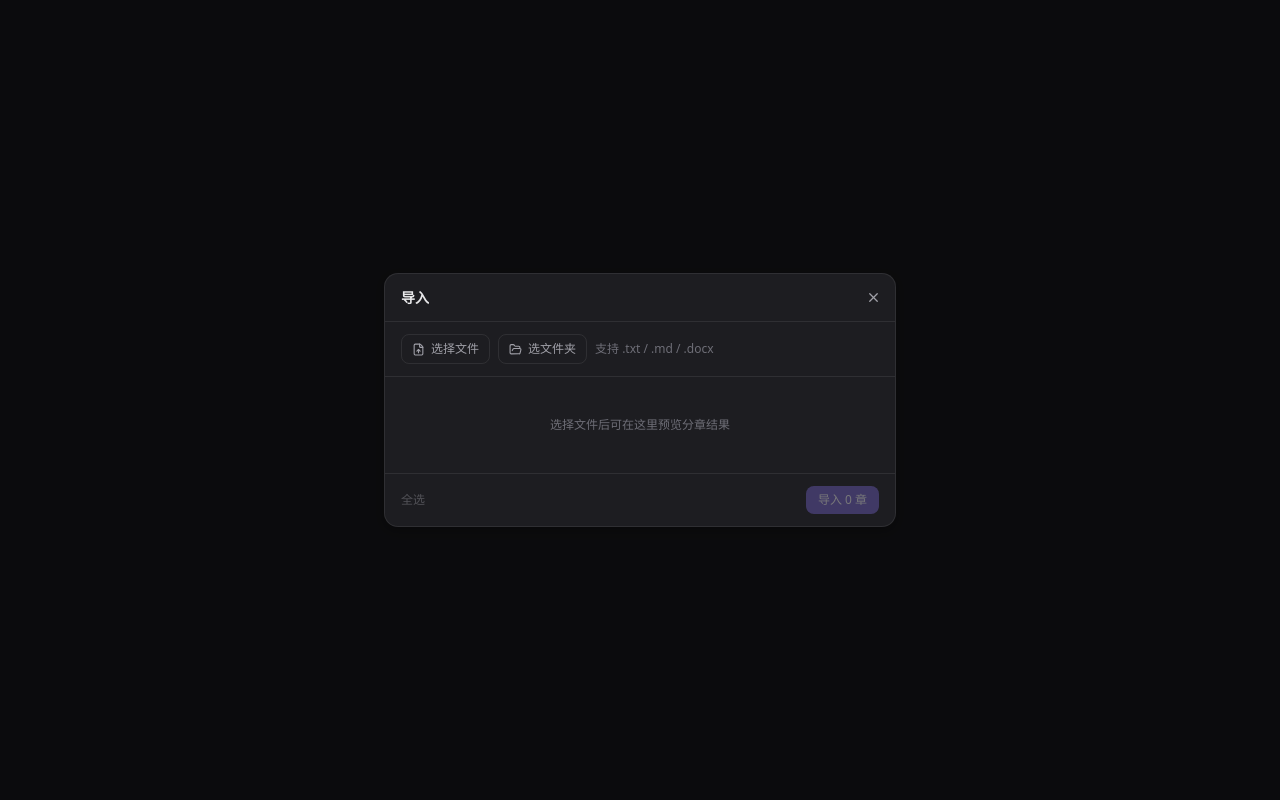
Test case: ImportWizard › 取消勾选后只导入被选中的章，并回调刷新
Click the button "选择文件" at (446, 349), box [401, 334, 490, 364]
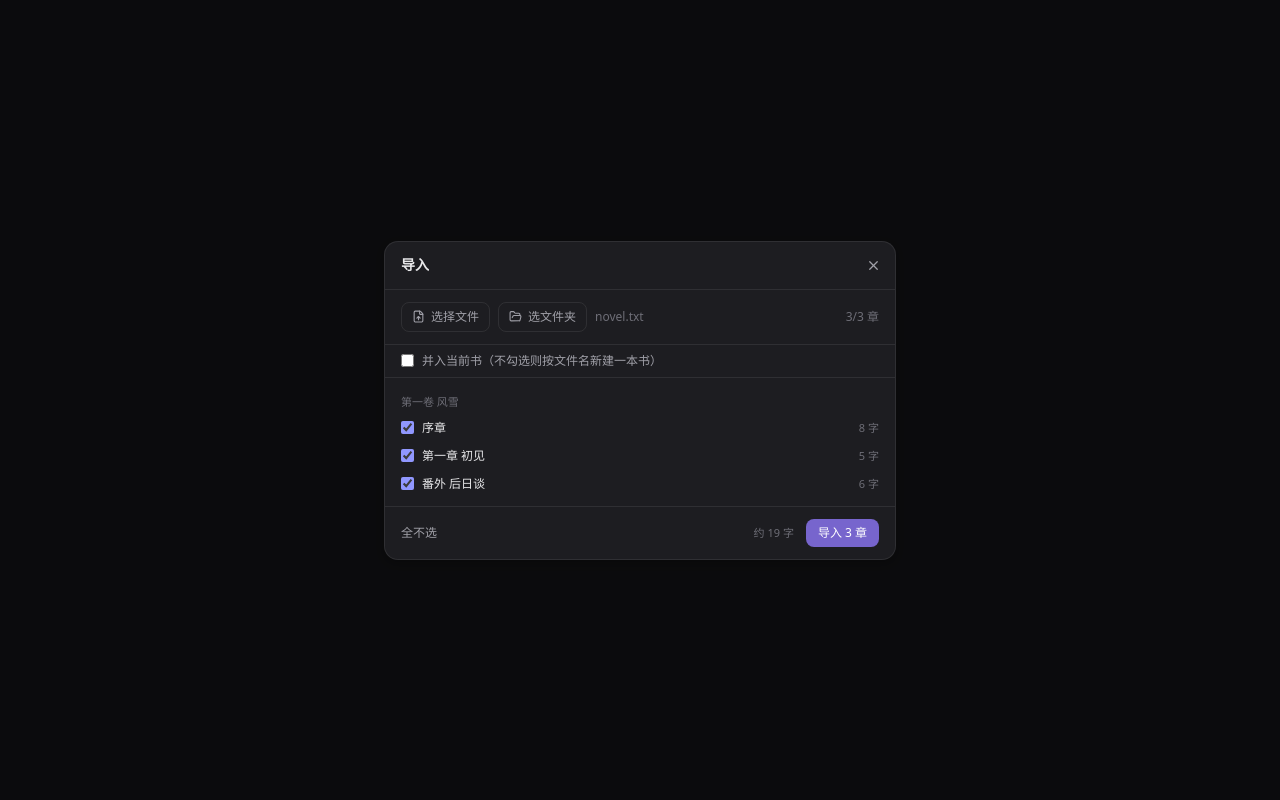
Check: the text "序章" is shown, box [422, 418, 446, 436]
# 并入当前书，聚焦验证「按勾选导入」本身
Click the checkbox with test id "into-current" at (408, 360), box [401, 354, 414, 367]
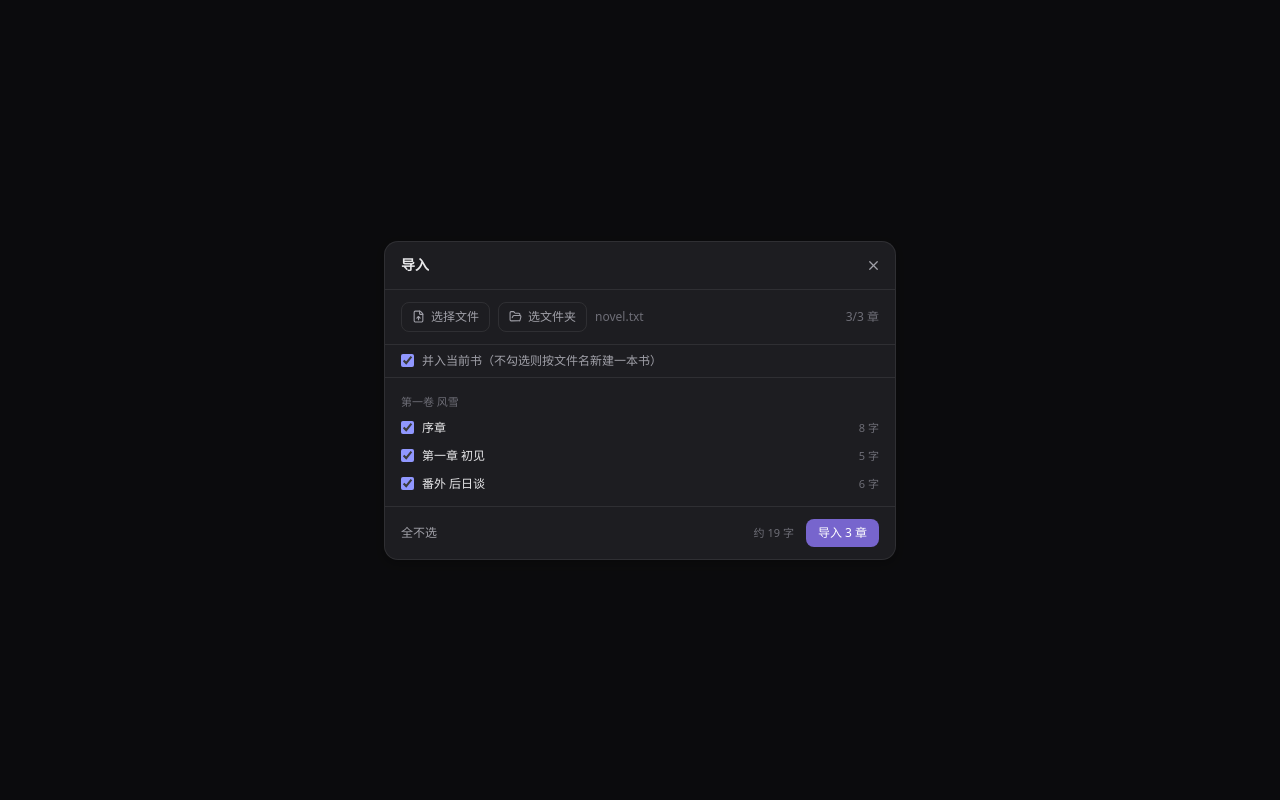
Click the checkbox labelled "番外 后日谈 6 字" at (408, 484), box [401, 477, 414, 490]
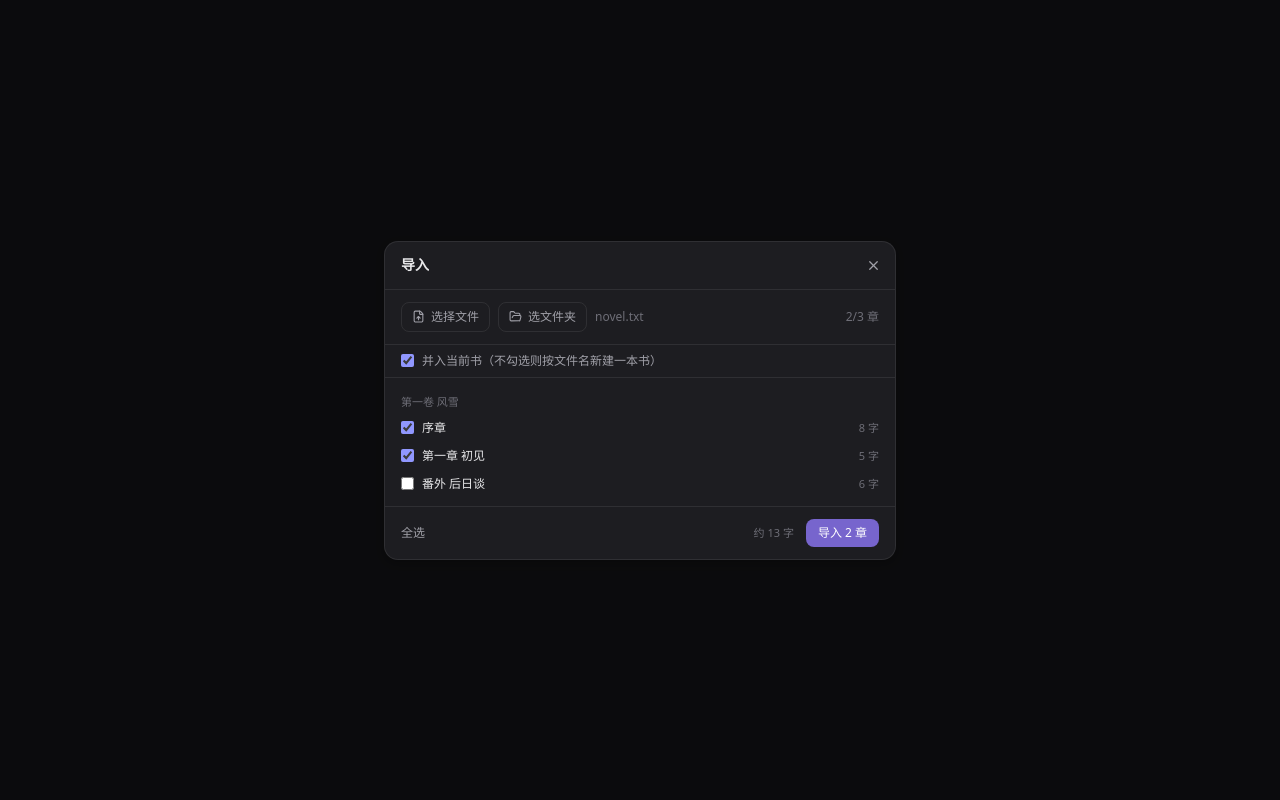
Click the button "导入 2 章" at (842, 532), box [806, 518, 879, 546]
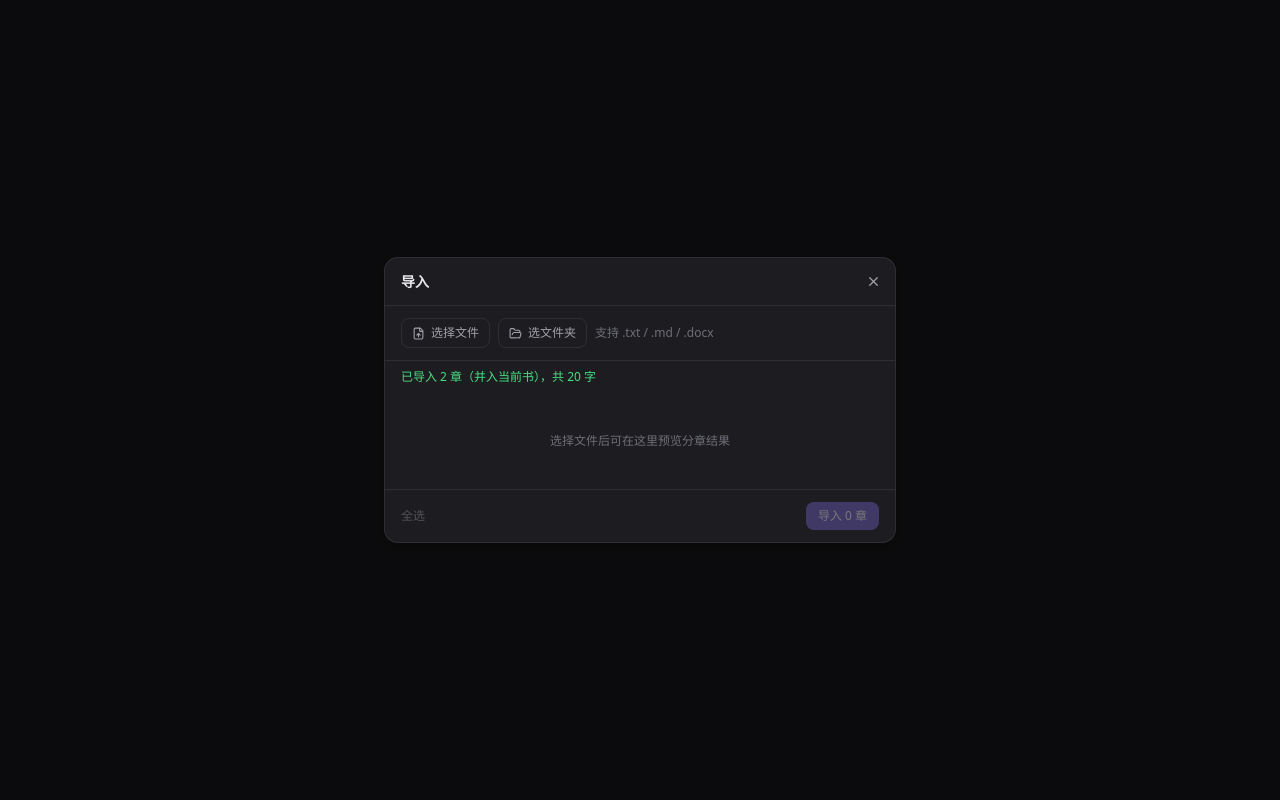
Check: the text "已导入 2 章（并入当前书），共 20 字" is shown, box [401, 368, 596, 385]
